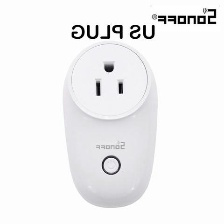three_eye_plug: (59, 32, 163, 210)
